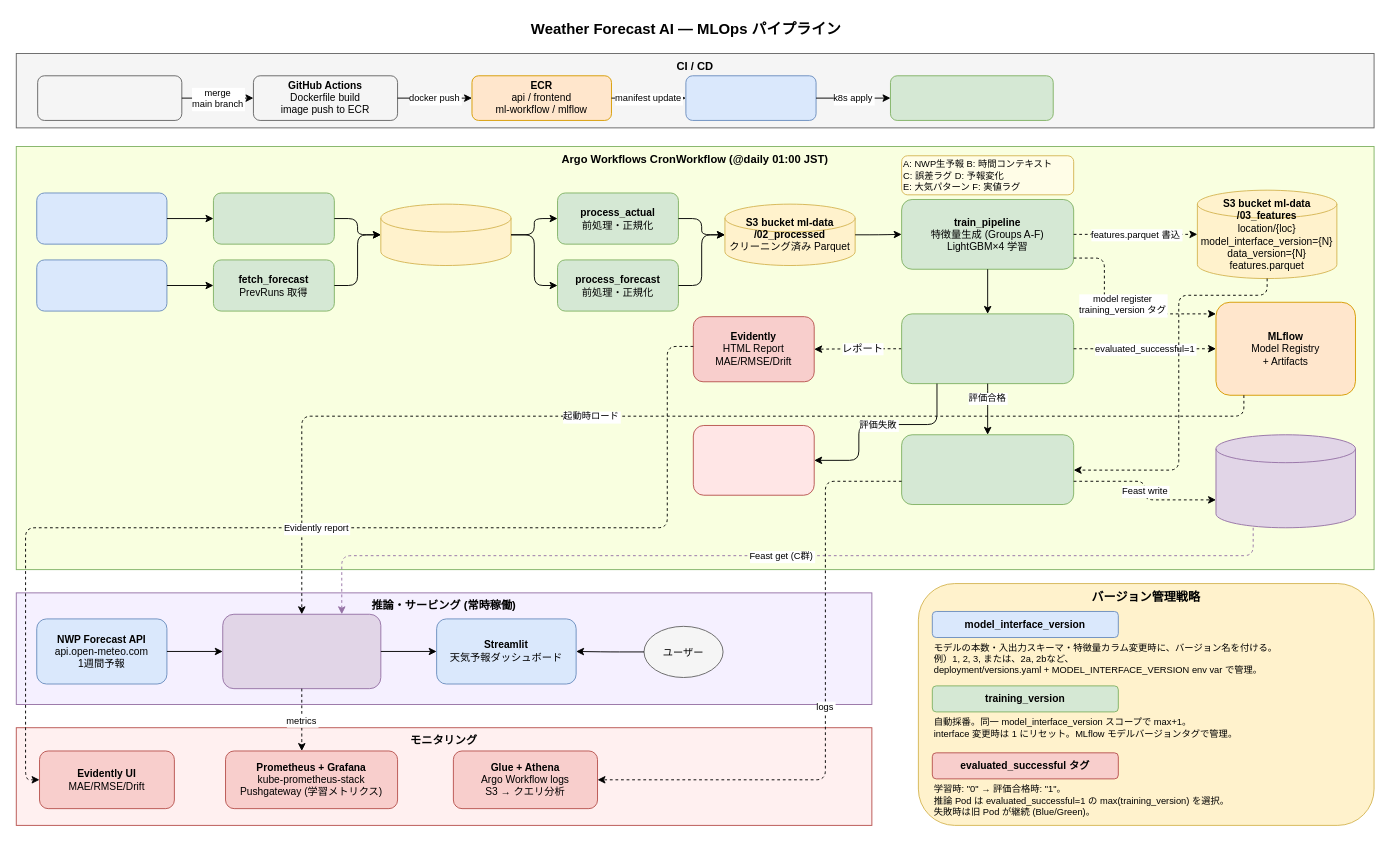
The diagram is 1390 pixels wide and 842 high, and some of its shapes have lost their labels. Each missing label, with the centre of its shape:
ArgoCD GitOps sync (App of Apps): (750,97)
EKS Rolling Update 新イメージで Pod 入替 Blue/Green 切替: (971,97)
evaluate_and_promote Evidently 品質評価 MAE / RMSE / Baseline: (987,348)
FastAPI /predict /historical-comparison: (301,651)
fetch_actual ERA5 取得: (273,218)
GitHub Actions PR CI evaluate Model: (109,97)
materialize_features feast apply + /03_features → Redis: (987,469)
Open Meteo ERA5 Archive API 実績データ (5日遅延): (101,218)
Open Meteo Previous Runs API 過去NWP予報: (101,285)
Redis Online Feature Store 誤差ラグ C群: (1285,481)
S3 bucket ml-data /01_raw Parquet (year/month/day): (445,234)
評価失敗 → タグ更新なし → materialize スキップ (Blue Pod 継続): (753,460)
